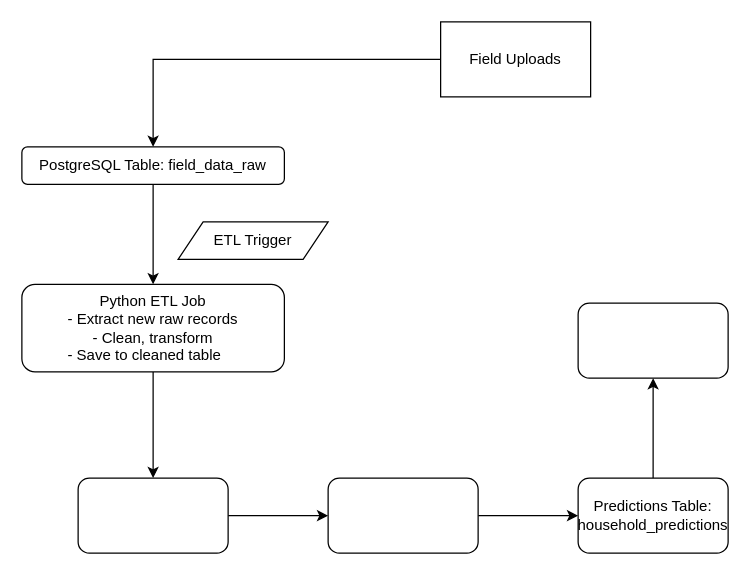
This 750x575 diagram has some shape labels left out. Each missing label, with the box of its shape:
Dashboard: Power BI / Tableau: (577, 302, 728, 378)
Retrain ML Model (Airflow/Python/MLflow): (327, 477, 478, 553)
SQL Table: field_data_cleaned / feature_store: (77, 477, 228, 553)
